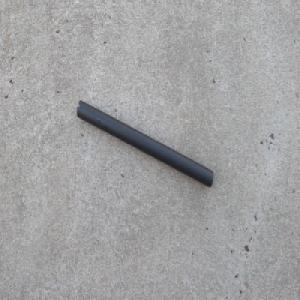LuggagePart: (76, 98, 214, 188)
